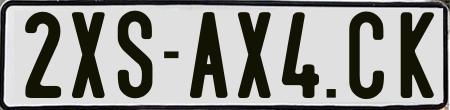2: (25, 12, 66, 103)
4: (282, 10, 324, 98)
A: (189, 9, 227, 101)
C: (347, 11, 382, 103)
K: (400, 12, 432, 98)
S: (115, 8, 153, 97)
X: (237, 11, 276, 97), (70, 10, 103, 98)
